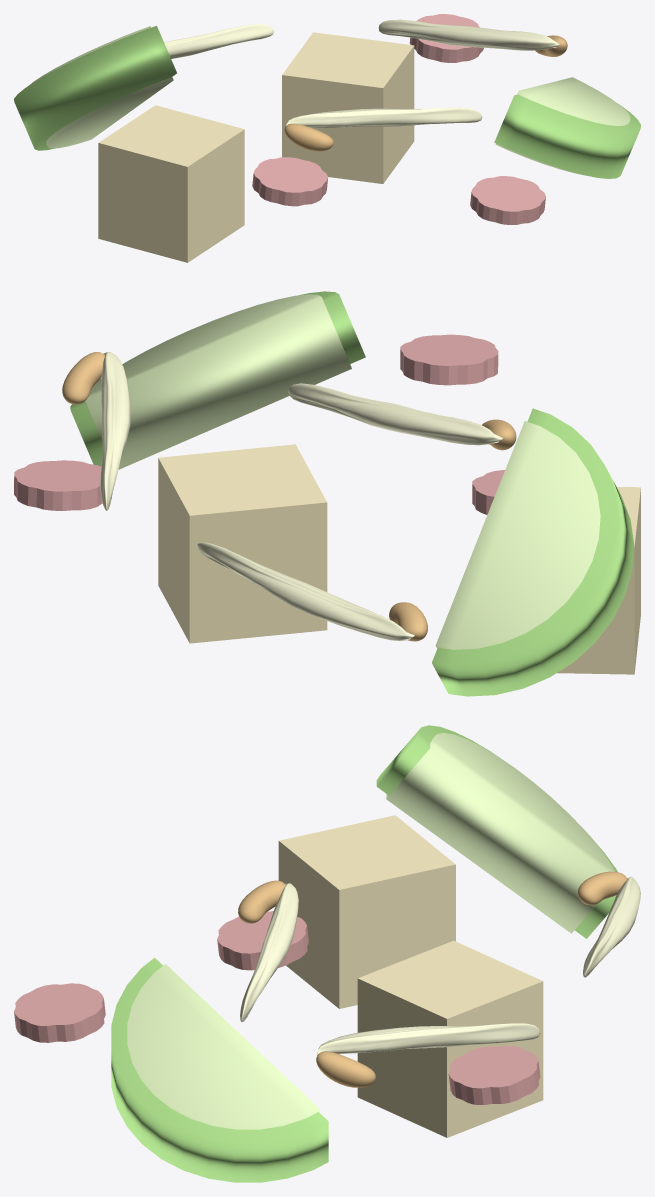
Rendered from platedvege.fbx.
The picture shows the model from 3 angles, top to bottom: view 1: azimuth 30°, elevation 25°; view 2: azimuth 150°, elevation 25°; view 3: azimuth 270°, elevation 25°; orthographic projection. The views are drawn at different scales.
Parts seen in each view (by area): view 1: Cube.007, Cube.026, Cylinder.028, Cylinder.024, Sphere.103, Cylinder.025, Sphere.105, Cylinder.059, Cylinder.060, Cylinder.029, Sphere.107, Cylinder.058 (+2 smaller); view 2: Cube.026, Cylinder.025, Cylinder.029, Cylinder.028, Sphere.107, Sphere.105, Cube.007, Cylinder.060, Cylinder.058, Sphere.103, Cylinder.024, Sphere.104 (+3 smaller); view 3: Cube.007, Cube.026, Cylinder.029, Cylinder.025, Cylinder.024, Cylinder.060, Cylinder.058, Sphere.103, Cylinder.059, Sphere.105, Cylinder.028, Sphere.107 (+3 smaller).
Boxes of the visible parts, <box> form: Cube.007: <box>98,105,244,262</box>; Cube.026: <box>282,32,414,183</box>; Cylinder.028: <box>14,25,176,150</box>; Cylinder.024: <box>494,94,640,178</box>; Sphere.103: <box>378,19,559,50</box>; Cylinder.025: <box>495,77,630,175</box>; Sphere.105: <box>286,107,482,128</box>; Cylinder.059: <box>252,157,327,206</box>; Cylinder.060: <box>470,176,545,224</box>; Cylinder.029: <box>30,26,173,148</box>; Sphere.107: <box>164,24,273,58</box>; Cylinder.058: <box>409,14,483,62</box>; Cube.026: <box>158,444,327,643</box>; Cylinder.025: <box>85,294,351,469</box>; Cylinder.029: <box>435,421,600,649</box>; Cylinder.028: <box>432,408,634,696</box>; Sphere.107: <box>197,542,414,640</box>; Sphere.105: <box>288,383,502,445</box>; Cube.007: <box>557,486,640,674</box>; Cylinder.060: <box>400,334,498,385</box>; Cylinder.058: <box>14,460,111,510</box>; Sphere.103: <box>100,352,130,510</box>; Cylinder.024: <box>70,291,365,466</box>; Sphere.104: <box>62,352,104,404</box>; Cube.007: <box>278,815,455,1008</box>; Cube.026: <box>357,940,543,1137</box>; Cylinder.029: <box>386,733,614,933</box>; Cylinder.025: <box>127,964,319,1129</box>; Cylinder.024: <box>111,957,328,1182</box>; Cylinder.060: <box>14,983,105,1042</box>; Cylinder.058: <box>448,1045,540,1104</box>; Sphere.103: <box>317,1023,540,1055</box>; Cylinder.059: <box>217,911,308,970</box>; Sphere.105: <box>240,883,298,1022</box>; Cylinder.028: <box>376,725,617,938</box>; Sphere.107: <box>583,876,640,977</box>.
Size of the model in its own units: 293 by 108 by 260.
